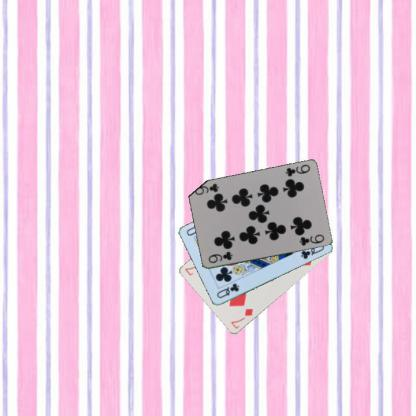7d: (228, 306, 254, 330)
9c: (282, 162, 312, 178), (206, 249, 233, 265)
Qc: (214, 281, 240, 300)
